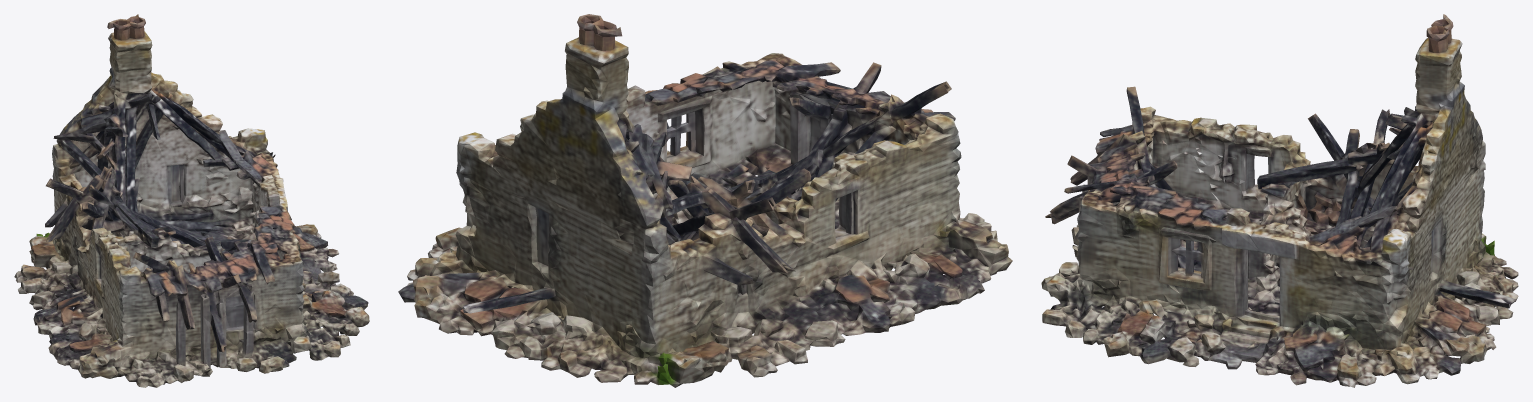
File: cottage_ruin.obj
3 views of the same model, side by side, from view 1: azimuth 30°, elevation 25°; view 2: azimuth 150°, elevation 25°; view 3: azimuth 270°, elevation 25° (orthographic). The views are drawn at different scales.
Parts seen in each view (by area): view 1: cottage_ruin; view 2: cottage_ruin; view 3: cottage_ruin.
Boxes of the visible parts, bbox=[...] form: cottage_ruin: bbox=[14, 14, 369, 387]; cottage_ruin: bbox=[398, 14, 1012, 387]; cottage_ruin: bbox=[1041, 14, 1518, 387].
Bounding box in the file's own units: 8.92 × 6 × 9.35.
1 material, 1 textured.
